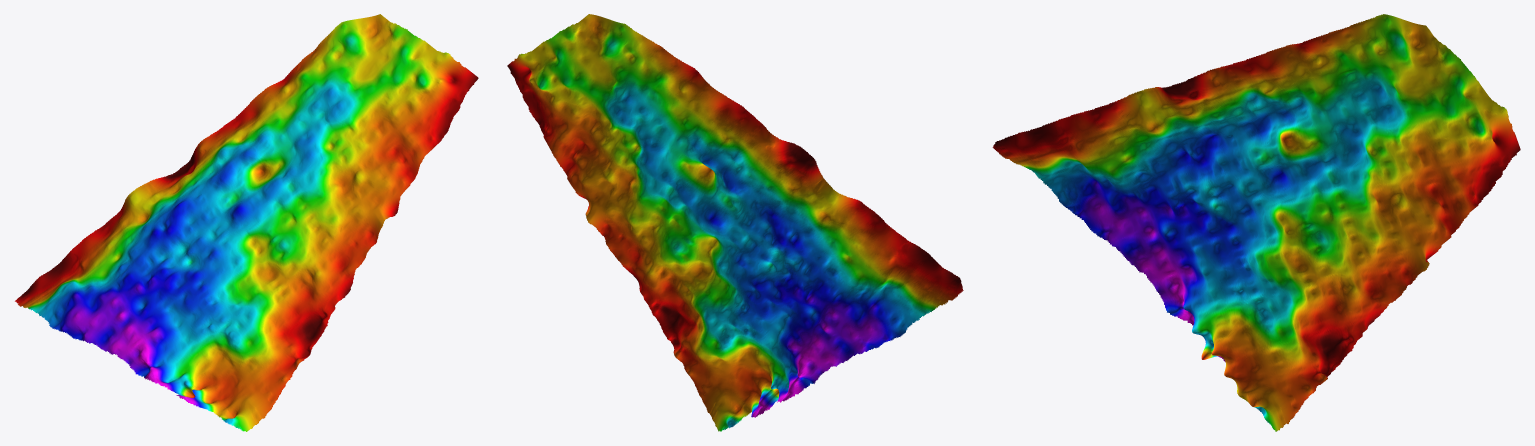
File: Embasamento_sismico.glb
The picture shows the model from 3 angles, left to right: view 1: azimuth 30°, elevation 25°; view 2: azimuth 150°, elevation 25°; view 3: azimuth 330°, elevation 25°; orthographic projection. The views are drawn at different scales.
Visible parts, largest first — view 1: Surface; view 2: Surface; view 3: Surface.
Part boxes in pixels (x1=…): Surface: x1=15, y1=14, x2=478, y2=431; Surface: x1=507, y1=14, x2=963, y2=431; Surface: x1=992, y1=14, x2=1520, y2=431.
Size of the model in its own units: 397600 by 318400 by 36605.
1 material, 1 textured.
